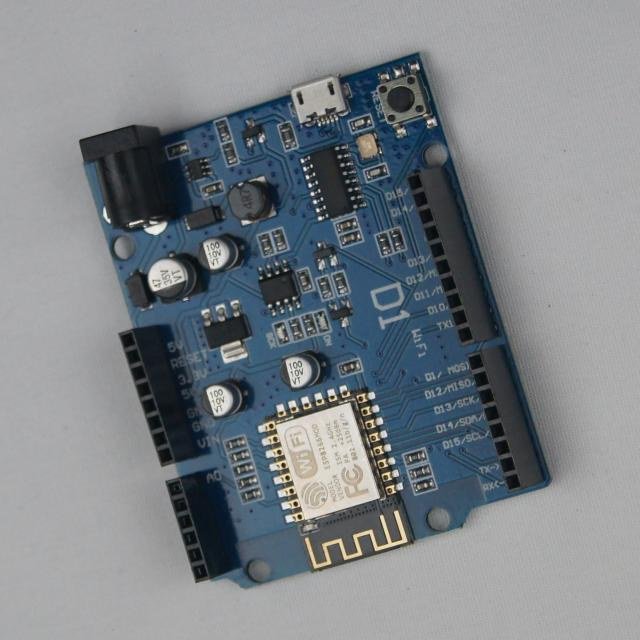Arduino Uno WiFi Shield: (81, 54, 550, 587)
